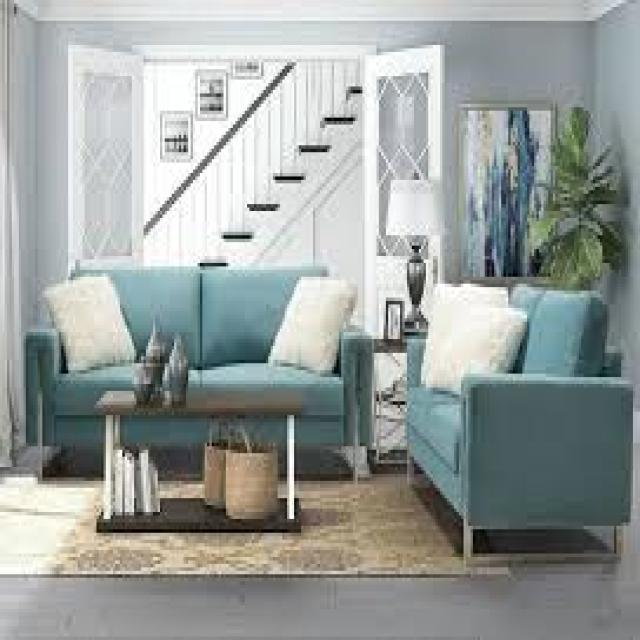Chair: (403, 271, 640, 570)
Lamp: (376, 166, 450, 320)
Sofa: (20, 239, 377, 492)
Table: (87, 379, 328, 564), (367, 317, 419, 458)
